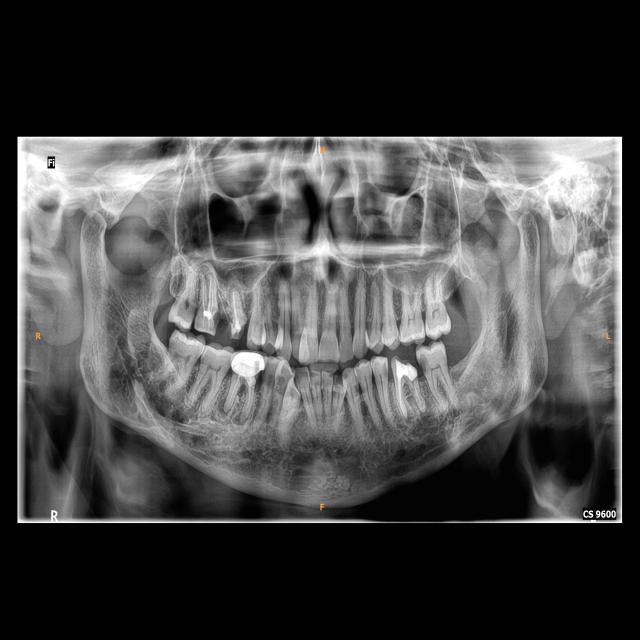dentin-curugu: (418, 355, 432, 375)
dolgu: (392, 358, 419, 382), (230, 319, 242, 337)
kanal-tedavisi: (230, 375, 254, 413), (200, 271, 216, 319), (220, 286, 243, 317), (408, 383, 426, 412), (395, 383, 406, 413)
kaplama: (231, 350, 265, 375)
